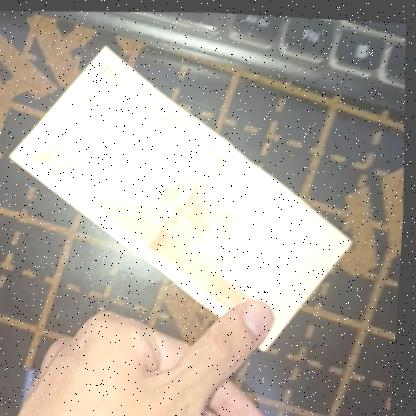twenty-back-vef: (0, 42, 373, 366)
